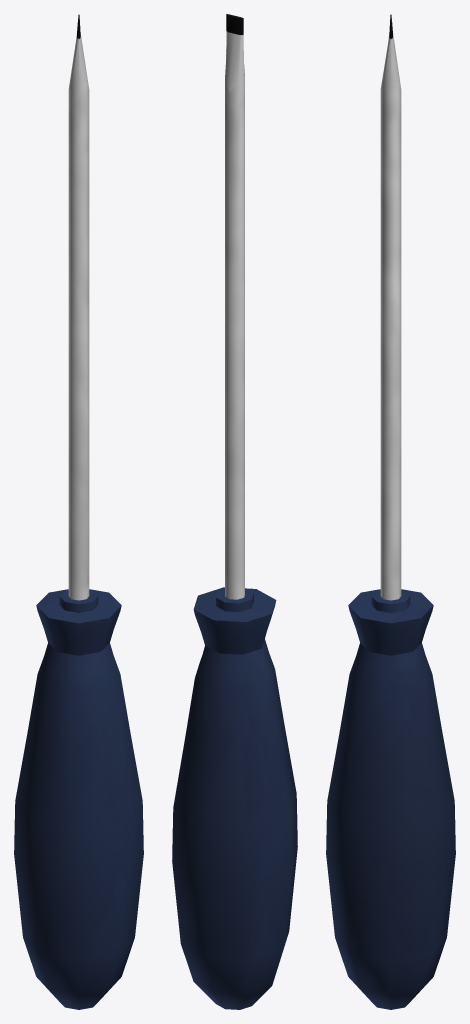
File: Screwdriver.fbx
3 views of the same model, side by side, from view 1: azimuth 90°, elevation 25°; view 2: azimuth 150°, elevation 25°; view 3: azimuth 270°, elevation 25° (orthographic).
Visible parts, largest first — view 1: ScrewdriverTool; view 2: ScrewdriverTool; view 3: ScrewdriverTool.
Boxes of the visible parts, box(x1,y1,x2,y2) form: ScrewdriverTool: box(14, 14, 143, 1009); ScrewdriverTool: box(172, 14, 297, 1009); ScrewdriverTool: box(326, 14, 455, 1009).
Bounding box in the file's own units: 3.49 × 29.3 × 3.49.
Materials: 1 (1 with a texture image).
